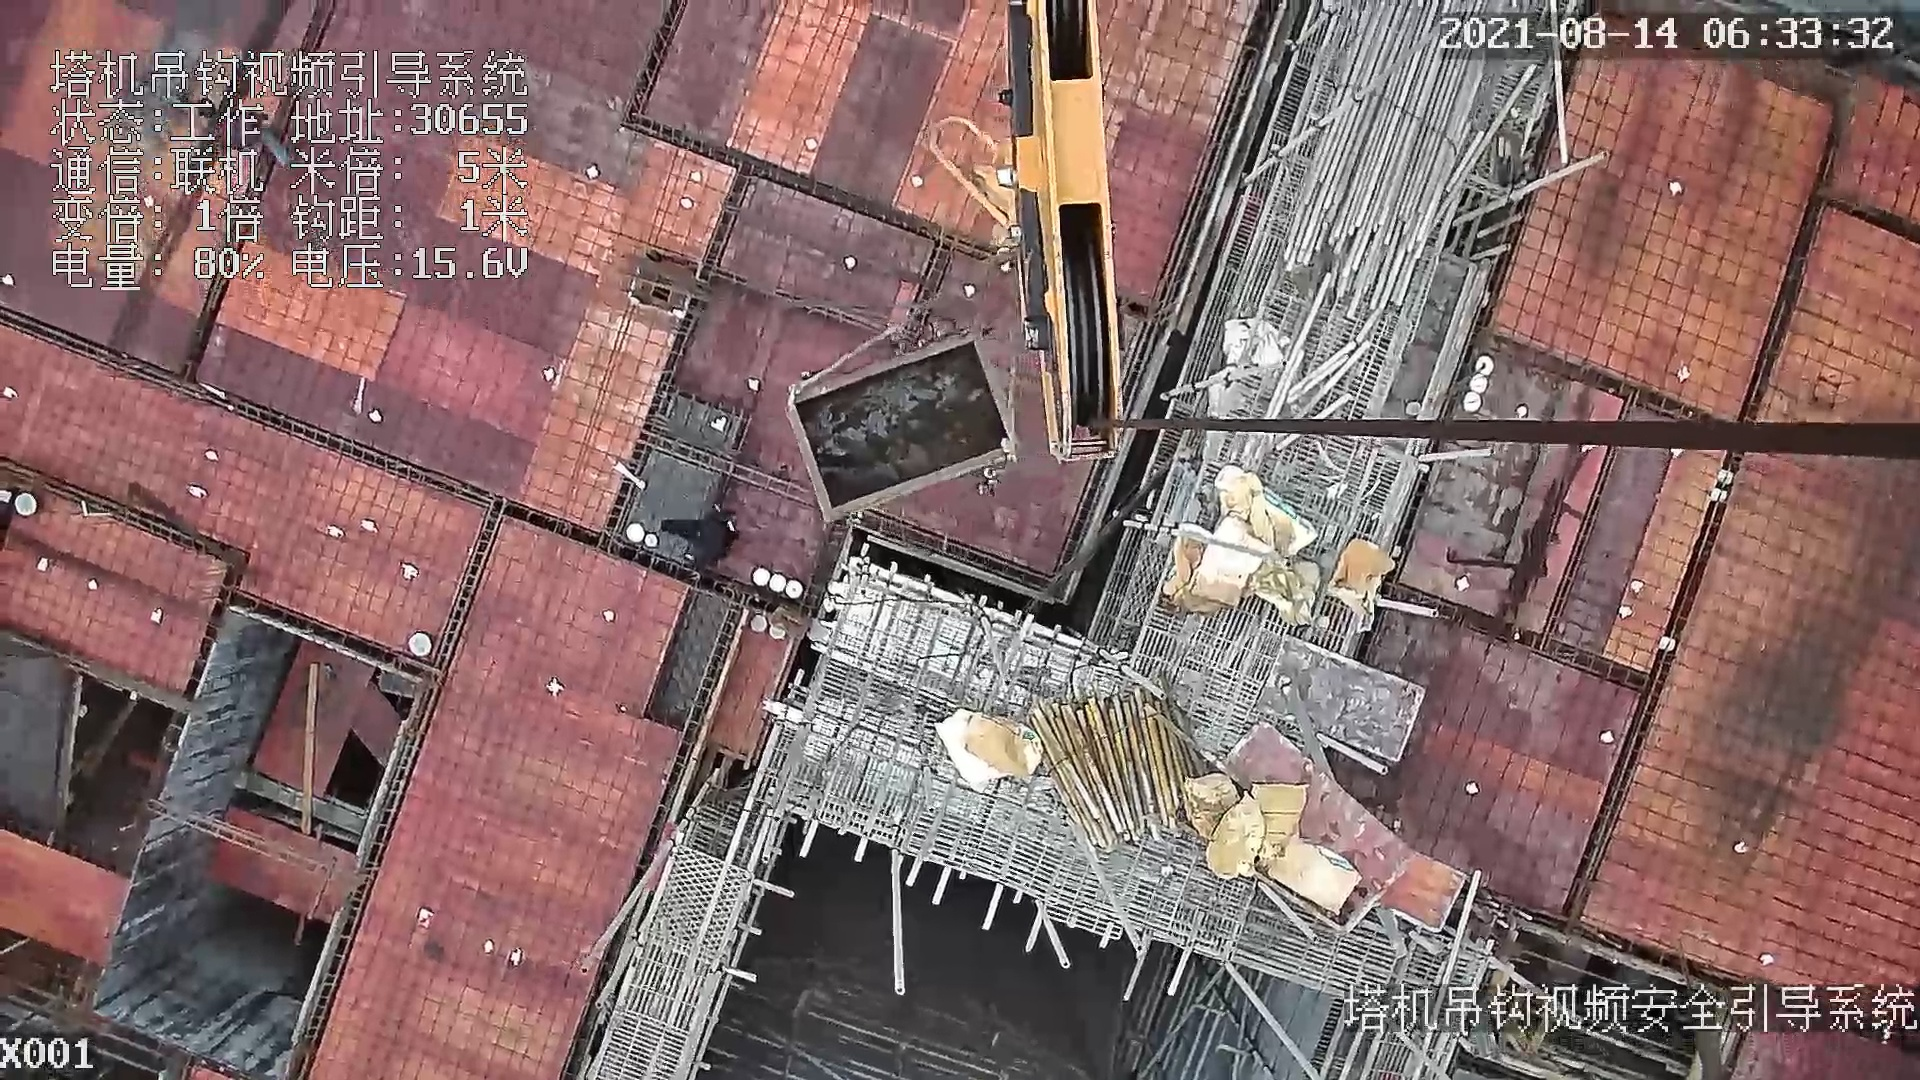hook: (928, 1, 1131, 453)
hopper: (794, 341, 1028, 523)
person: (655, 508, 753, 581)
scaffold: (1308, 1, 1495, 310), (1022, 677, 1209, 836)
